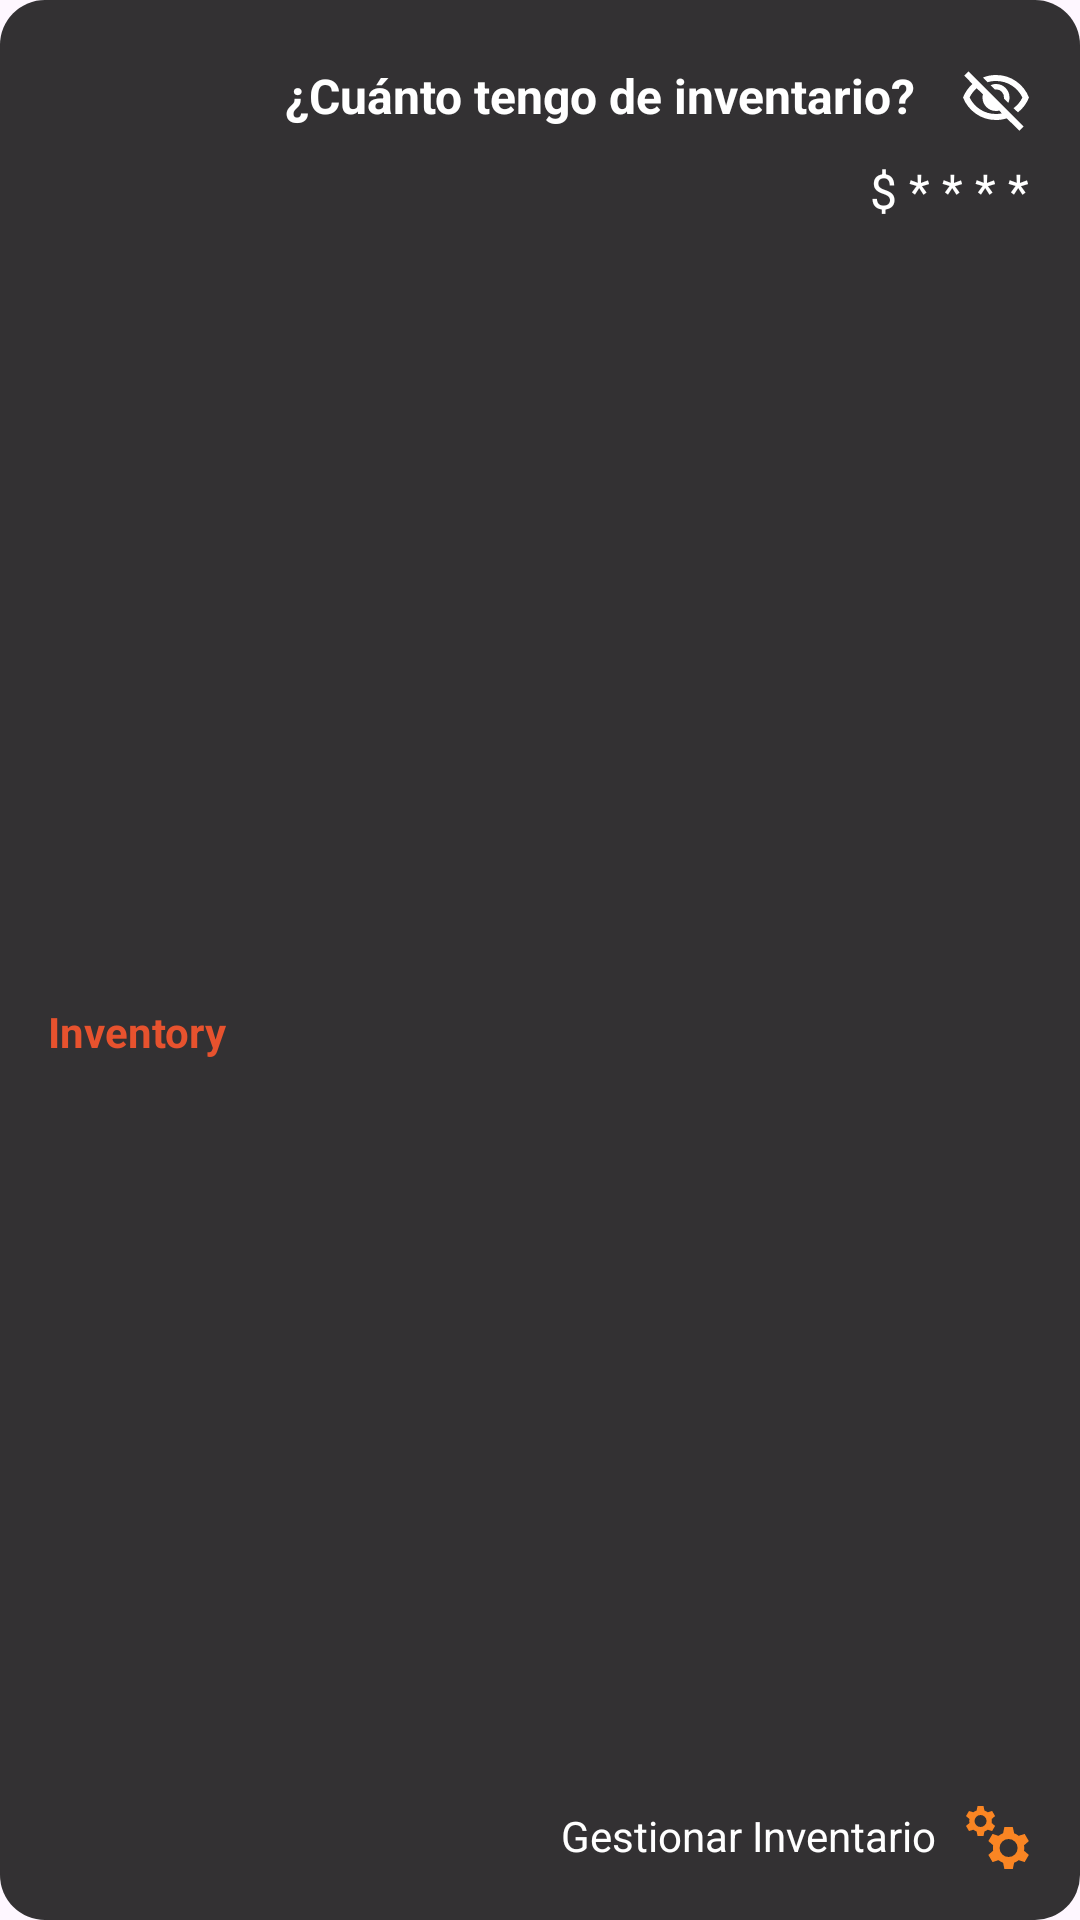

Where icons sit on this 1080*1920 app screen, as rect(x1, y1, x2, y2):
visibility off: rect(963, 71, 1029, 131)
